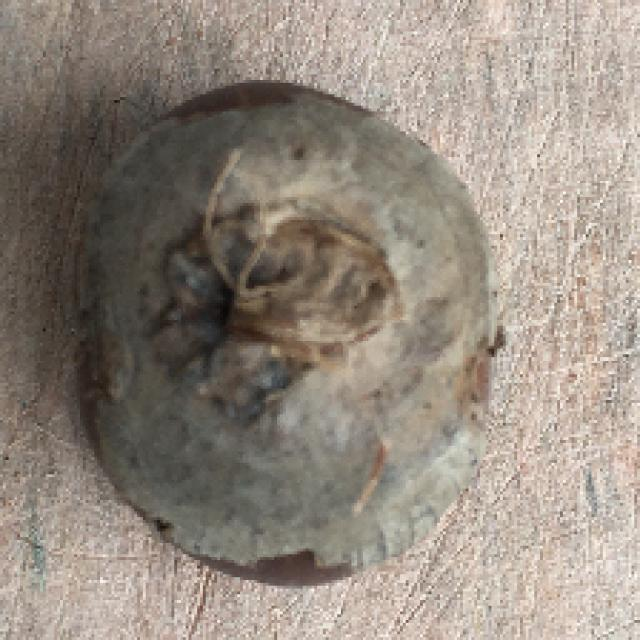DamagedHazelnut: (61, 78, 497, 587)
